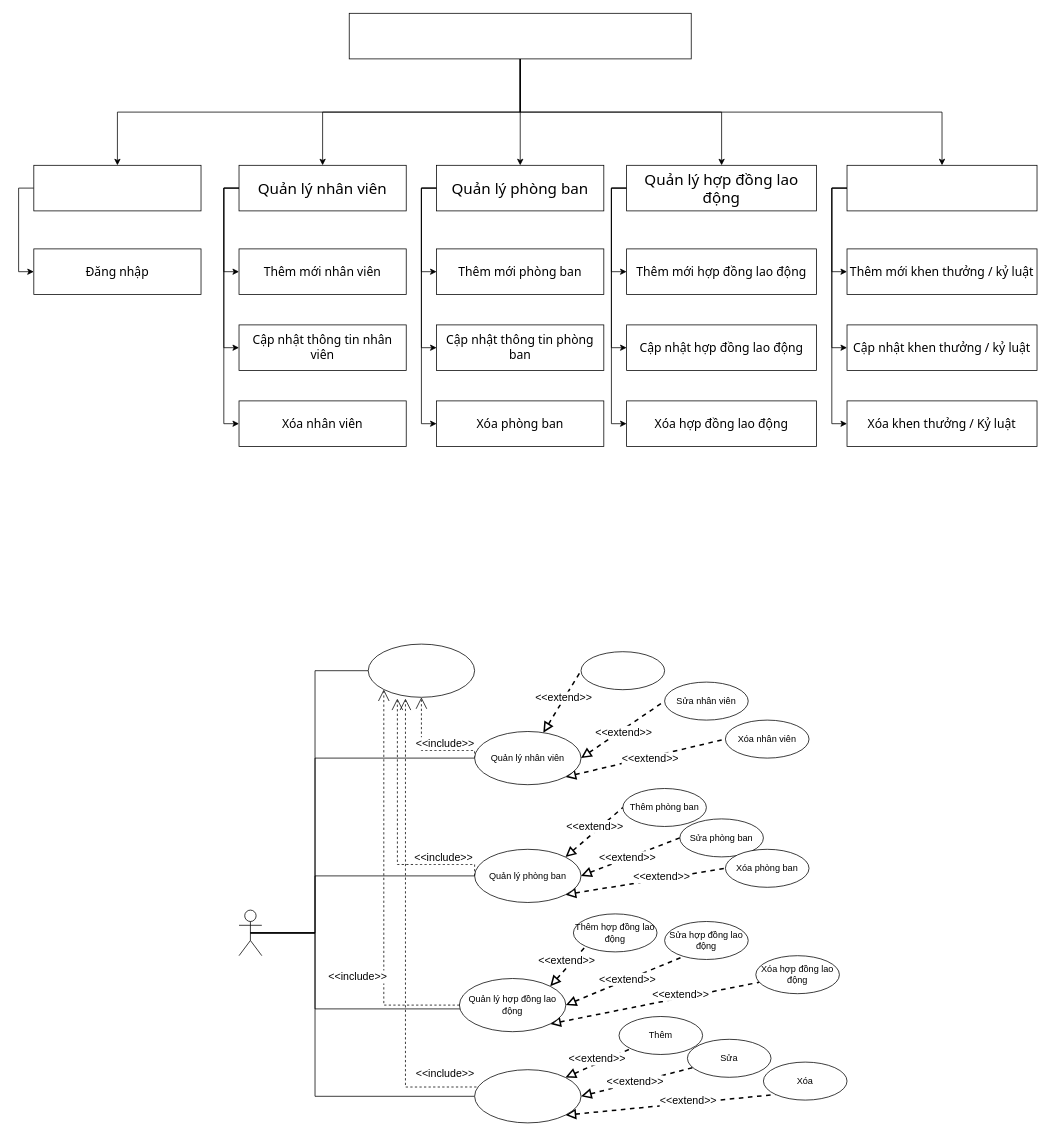
This 1050x1138 diagram has some shape labels left out. The shapes that lost their labels are listed below. From the top down, each one's box as (x1, y1, x2, y2) in pixels, then its label:
(348, 13, 691, 59): QUẢN LÝ NHÂN SỰ
(33, 165, 201, 211): Quản trị hệ thống
(846, 165, 1037, 211): Quản lý khen thưởng, kỷ luật
(367, 643, 475, 697): Login
(580, 651, 665, 690): Thêm nhân viên
(238, 909, 262, 956): Actor
(474, 1069, 581, 1123): Quản lý khen thưởng Kỉ luật
